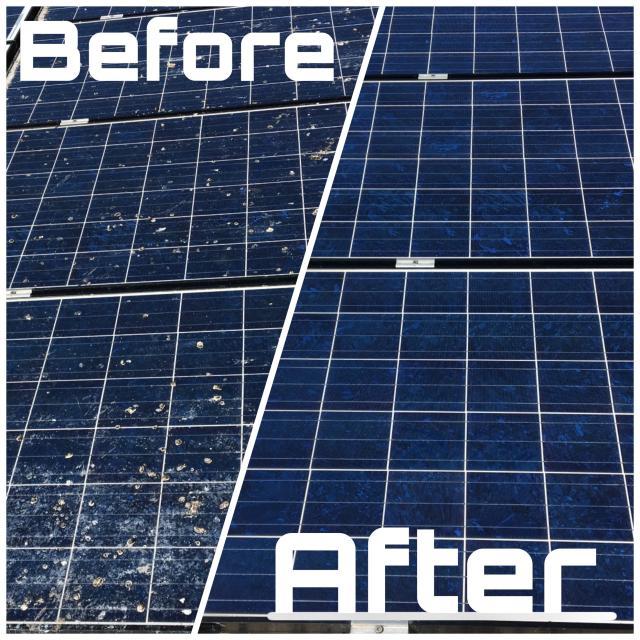clean-solar-panel: (206, 8, 632, 631)
dust-solar-panel: (6, 8, 375, 631)
